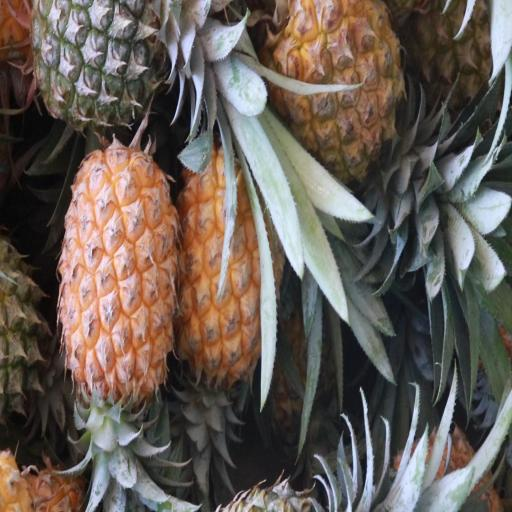------------------------------: (407, 0, 512, 115)
Pineapple - v8 v1: (64, 143, 178, 404), (179, 141, 283, 377), (268, 0, 404, 174)
